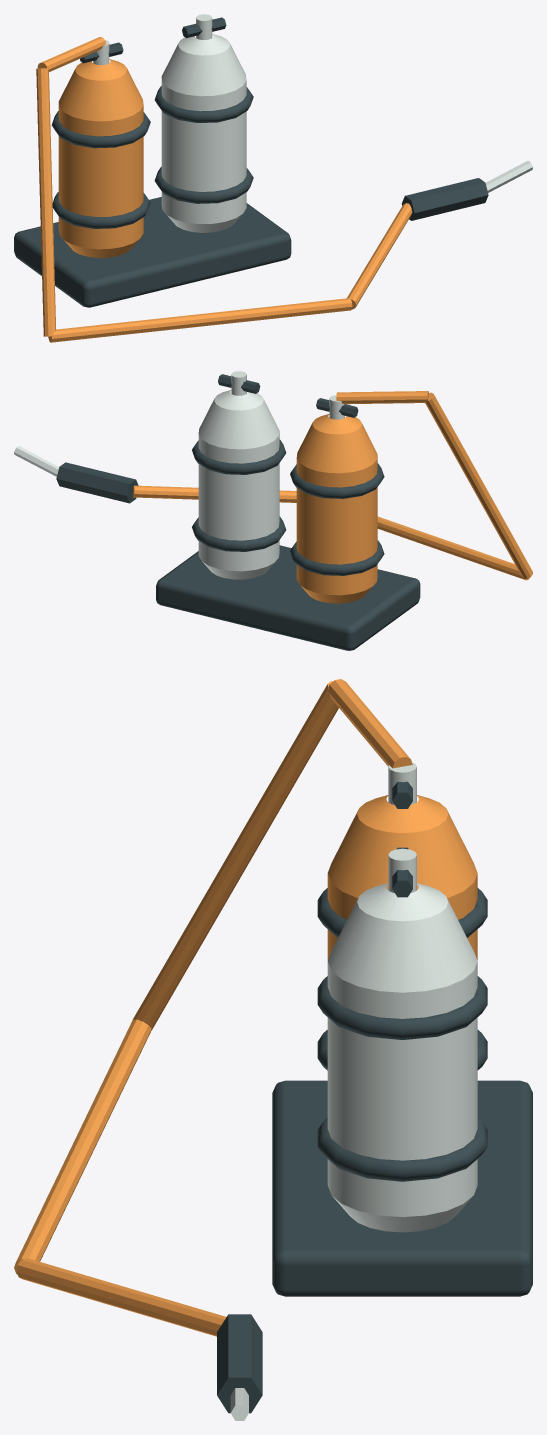
The model's file is diving-and-underwater-salvage-cutting-torch-rig-41edb126__28452.glb.
3 renders of one model, top to bottom at view 1: azimuth 30°, elevation 25°; view 2: azimuth 150°, elevation 25°; view 3: azimuth 270°, elevation 25°, orthographic. The views are drawn at different scales.
Visible parts, largest first — view 1: cutting-torch-rig-orange, cutting-torch-rig-dark, cutting-torch-rig-pale; view 2: cutting-torch-rig-dark, cutting-torch-rig-orange, cutting-torch-rig-pale; view 3: cutting-torch-rig-dark, cutting-torch-rig-pale, cutting-torch-rig-orange.
Part boxes in pixels (box(x1,y1,x2,y2)): cutting-torch-rig-orange: box(36, 37, 412, 342); cutting-torch-rig-dark: box(14, 17, 488, 307); cutting-torch-rig-pale: box(93, 14, 532, 232); cutting-torch-rig-dark: box(56, 374, 420, 650); cutting-torch-rig-orange: box(132, 391, 532, 603); cutting-torch-rig-pale: box(14, 371, 344, 579); cutting-torch-rig-dark: box(217, 781, 532, 1413); cutting-torch-rig-pale: box(230, 762, 477, 1420); cutting-torch-rig-orange: box(14, 679, 477, 1336).
Size of the model in its own units: 1.6 by 0.7162 by 0.7966.
